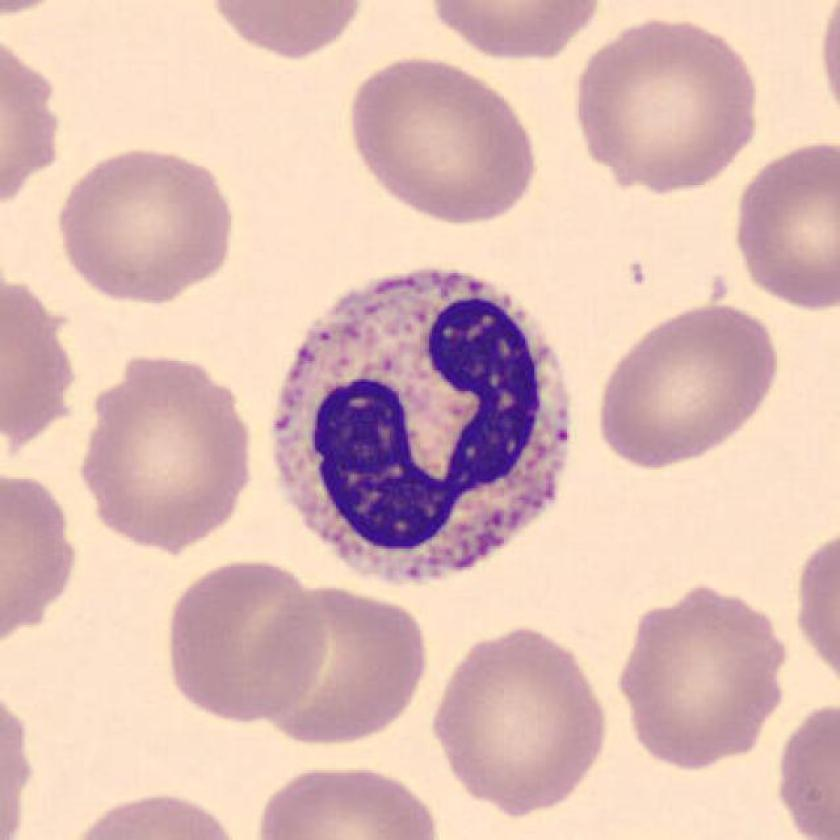neutrophil: (277, 273, 571, 585)
